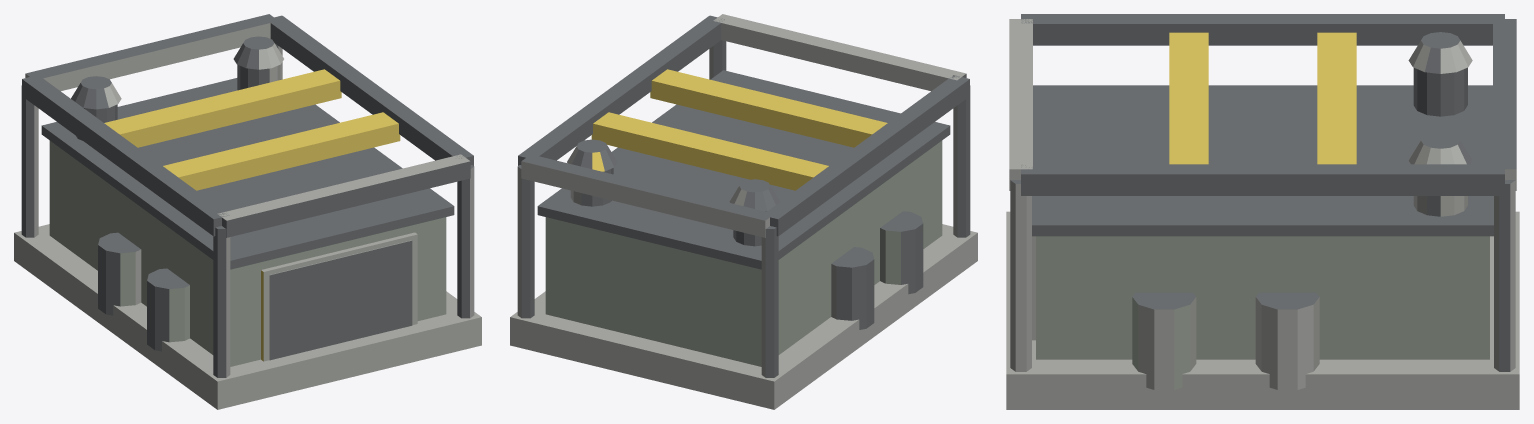
File: heavy_manufactory.glb
3 renders of one model, left to right at view 1: azimuth 30°, elevation 25°; view 2: azimuth 150°, elevation 25°; view 3: azimuth 270°, elevation 25°, orthographic. The views are drawn at different scales.
Parts seen in each view (by area): view 1: heavy_manufactory; view 2: heavy_manufactory; view 3: heavy_manufactory.
Part boxes in pixels (x1=…): heavy_manufactory: x1=14, y1=14, x2=481, y2=409; heavy_manufactory: x1=510, y1=14, x2=977, y2=409; heavy_manufactory: x1=1006, y1=14, x2=1519, y2=409.
Size of the model in its own units: 8.04 by 5.32 by 10.4.
